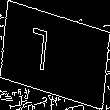L_S: (44, 28, 66, 82)
